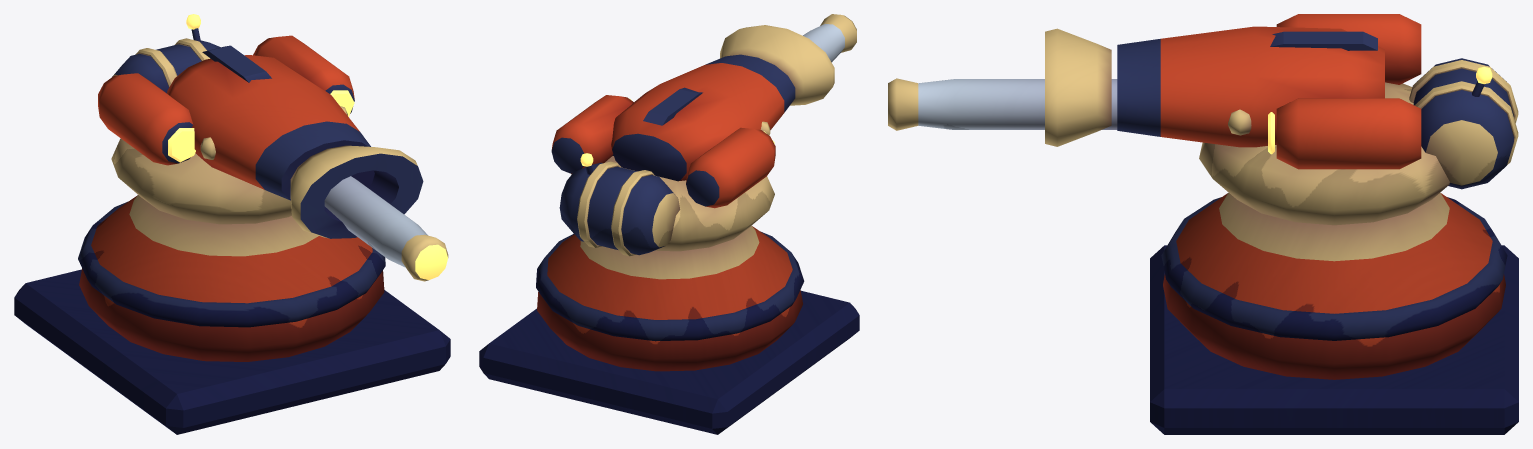
Rendered from R4W_Basic_LOD1.glb.
3 views of the same model, side by side, from view 1: azimuth 30°, elevation 25°; view 2: azimuth 150°, elevation 25°; view 3: azimuth 270°, elevation 25° (orthographic). The views are drawn at different scales.
Parts seen in each view (by area): view 1: R4W_Basic_LOD1; view 2: R4W_Basic_LOD1; view 3: R4W_Basic_LOD1.
Part boxes in pixels (bbox=[...]): R4W_Basic_LOD1: bbox=[14, 14, 450, 434]; R4W_Basic_LOD1: bbox=[479, 14, 859, 434]; R4W_Basic_LOD1: bbox=[888, 14, 1518, 434].
Bounding box in the file's own units: 0.51 × 0.496 × 0.872.
5 materials, 4 textured.
